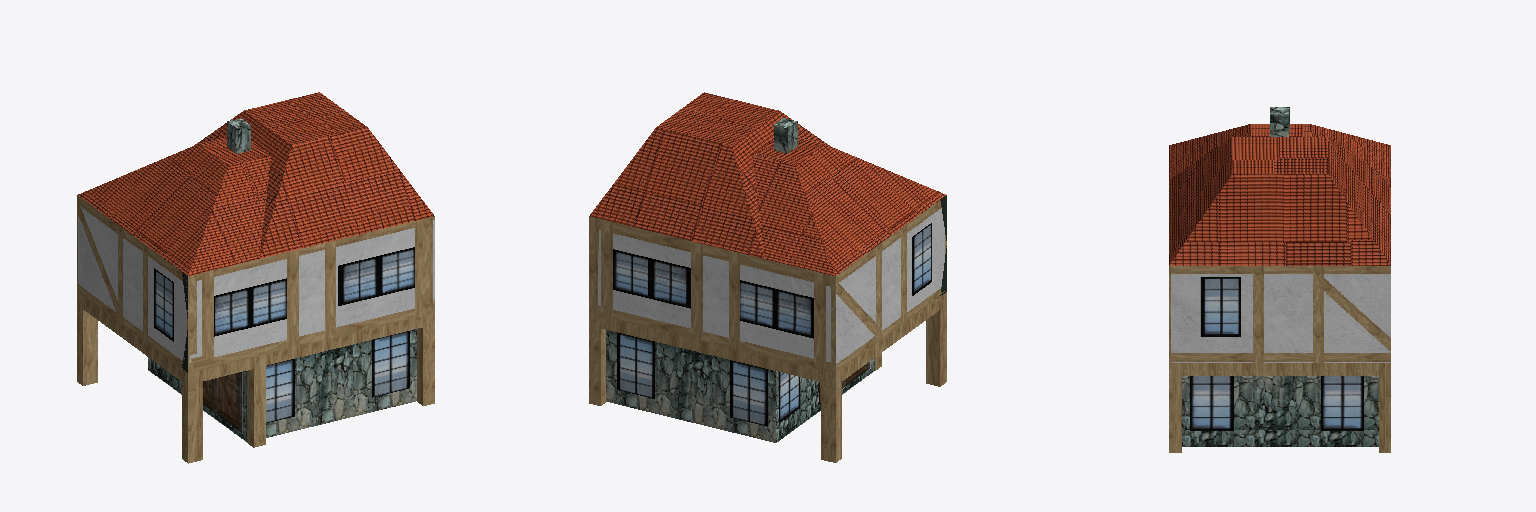
3 renders of one model, left to right at view 1: azimuth 30°, elevation 25°; view 2: azimuth 150°, elevation 25°; view 3: azimuth 270°, elevation 25°, orthographic.
Visible parts, largest first — view 1: Cube; view 2: Cube; view 3: Cube.
Part boxes in pixels (left/top/right/bottom): Cube: left=77, top=92, right=434, bottom=463; Cube: left=589, top=92, right=946, bottom=462; Cube: left=1169, top=107, right=1390, bottom=452.
Size of the model in its own units: 28.6 by 30.39 by 22.33.
1 materials, 1 textured.